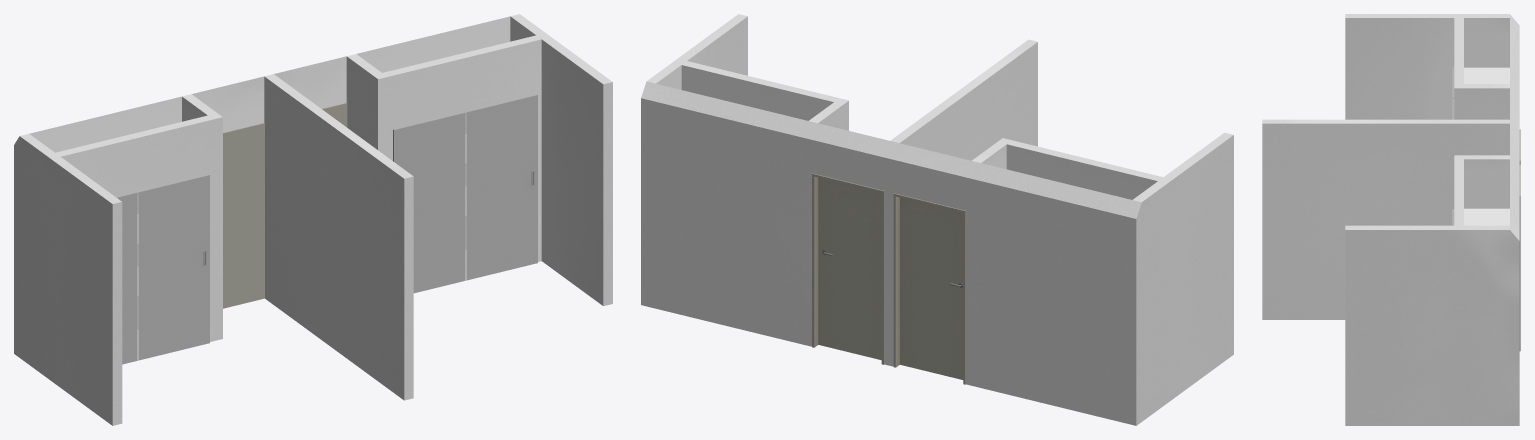
The picture shows the model from 3 angles, left to right: view 1: azimuth 30°, elevation 25°; view 2: azimuth 150°, elevation 25°; view 3: azimuth 270°, elevation 25°; orthographic projection. The views are drawn at different scales.
Visible parts, largest first — view 1: Op1; view 2: Op1; view 3: Op1.
Part boxes in pixels (x1,y1,x2,y2): Op1: (14,14,612,425); Op1: (641,14,1233,425); Op1: (1262,14,1520,425).
Bounding box in the file's own units: 5511 × 2335 × 2785.
Materials: 4 (4 with a texture image).
